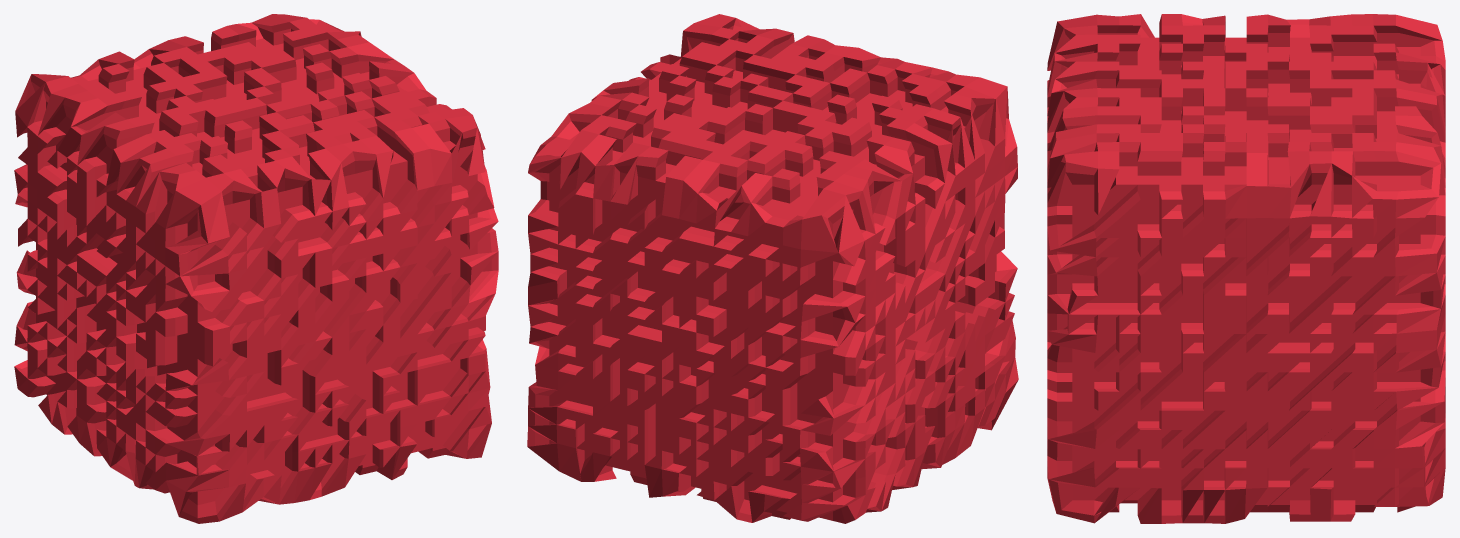
Rendered from secondfloor.glb.
The picture shows the model from 3 angles, left to right: view 1: azimuth 30°, elevation 25°; view 2: azimuth 150°, elevation 25°; view 3: azimuth 270°, elevation 25°; orthographic projection. The views are drawn at different scales.
Parts seen in each view (by area): view 1: 2ndFloor.002; view 2: 2ndFloor.002; view 3: 2ndFloor.002.
Part boxes in pixels (x1=…): 2ndFloor.002: x1=14, y1=14, x2=498, y2=523; 2ndFloor.002: x1=527, y1=14, x2=1018, y2=523; 2ndFloor.002: x1=1047, y1=14, x2=1445, y2=523.
Bounding box in the file's own units: 2.29 × 2.29 × 2.29.
